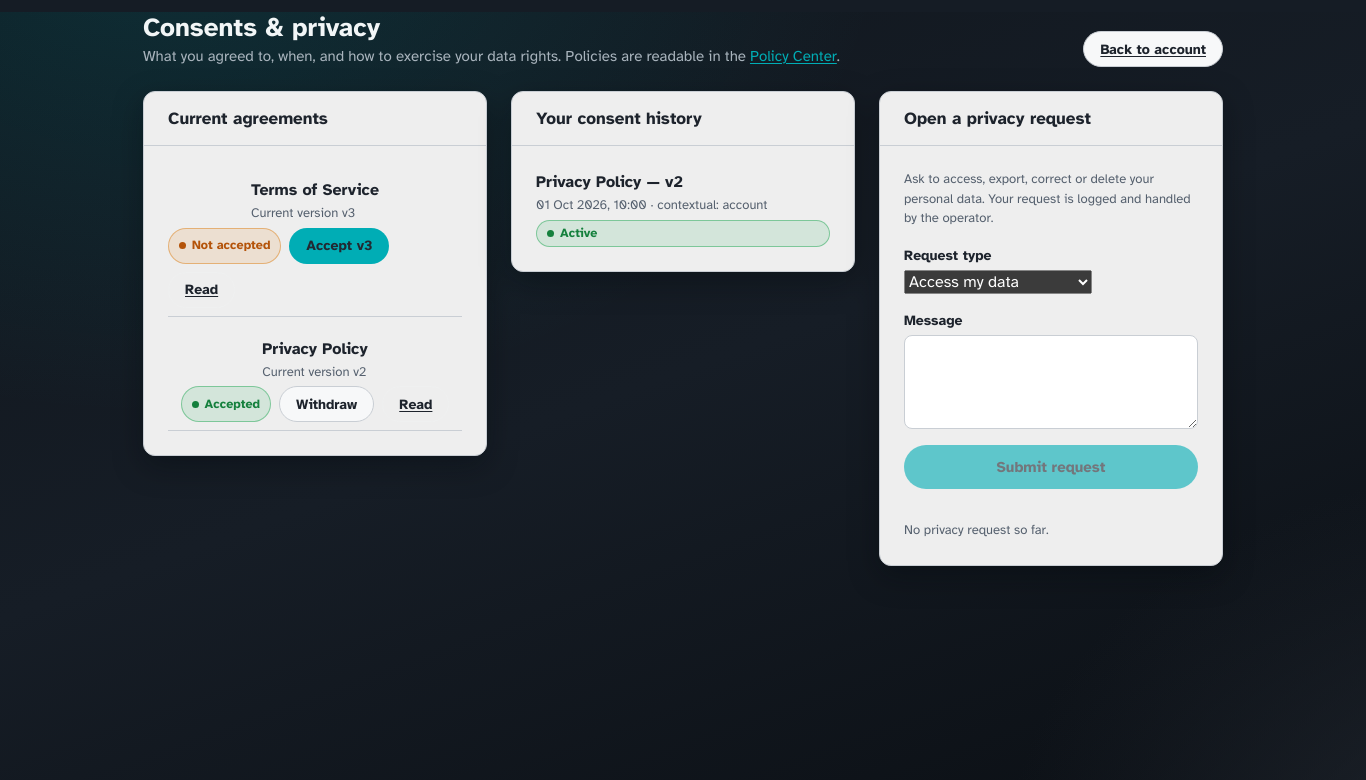
Test case: ConsentsPage › records acceptance of the published version
Click the button "Accept v3" at (339, 246), box [289, 228, 390, 264]
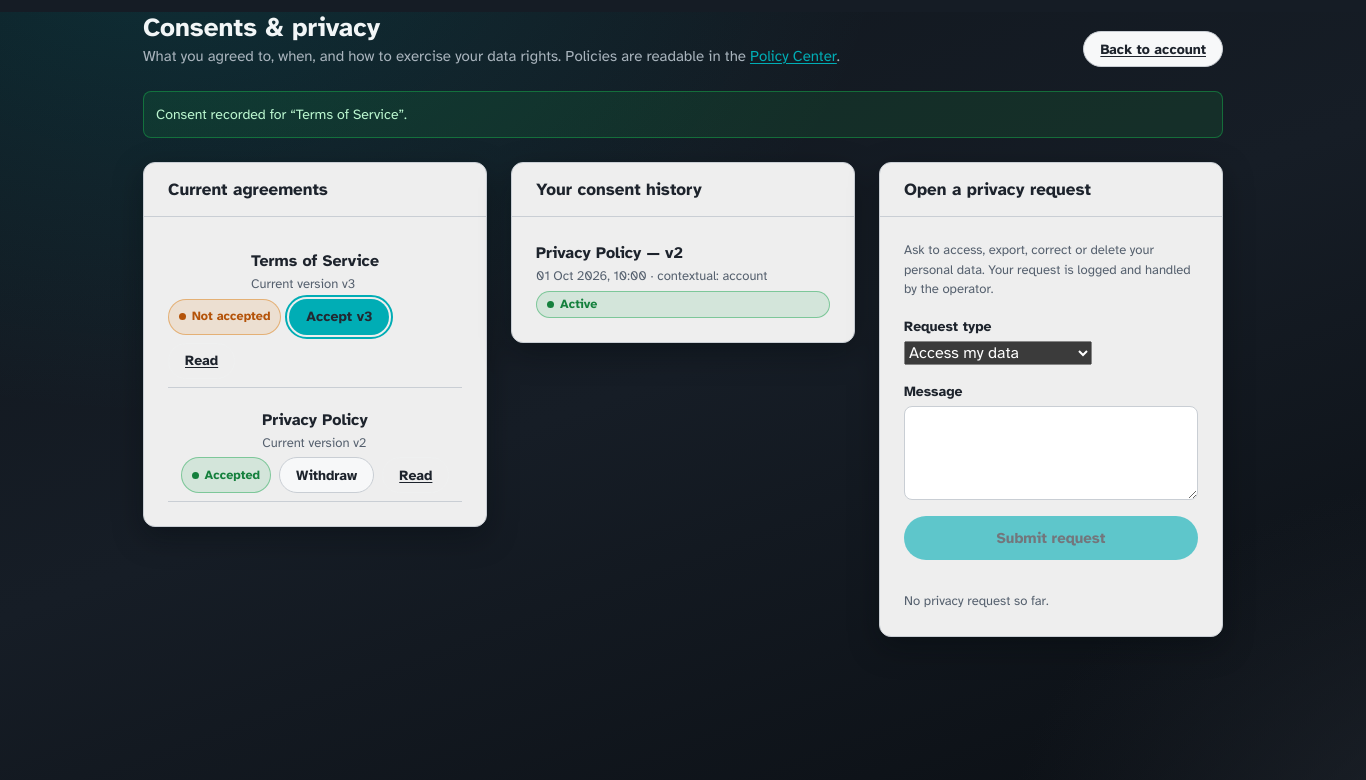
Now the text "Consent recorded for “Terms of Service”." is shown, box [143, 91, 1223, 138]
